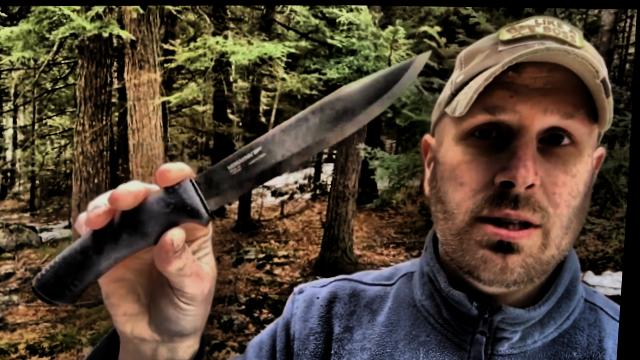knife: (128, 40, 441, 272)
